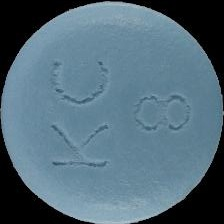66758-110: (0, 0, 224, 224)
